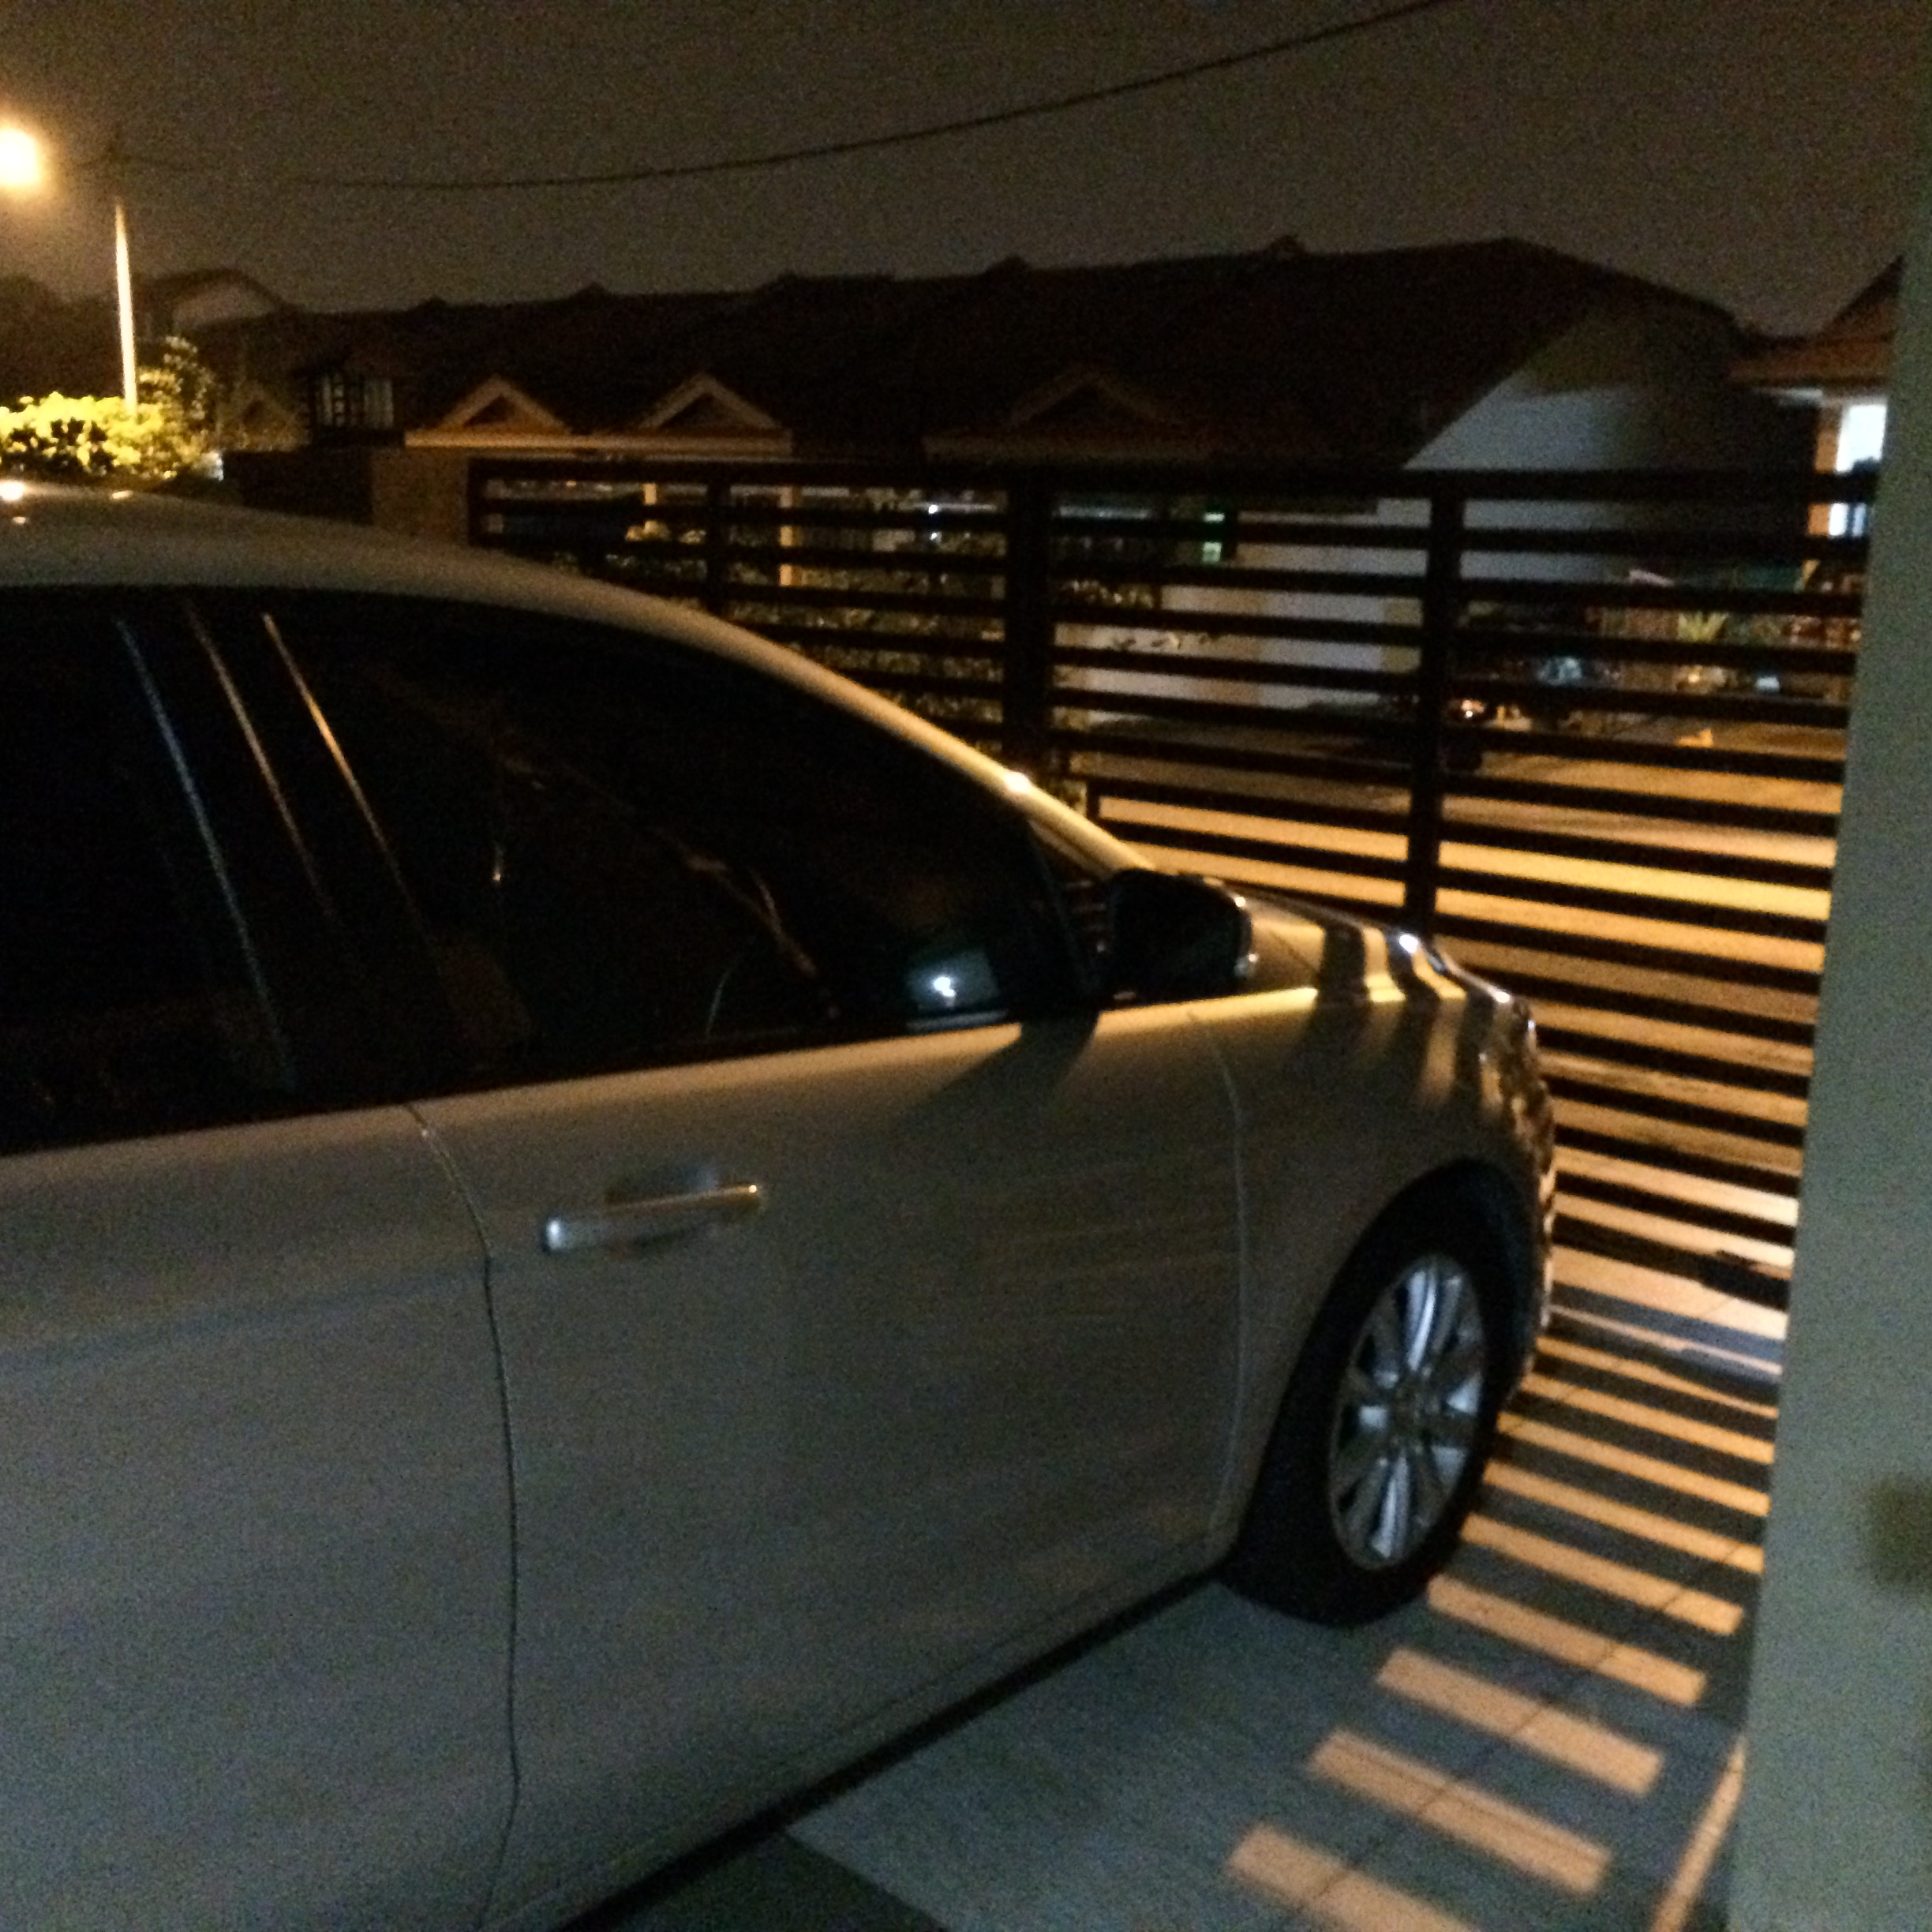car: (18, 449, 1629, 1900)
